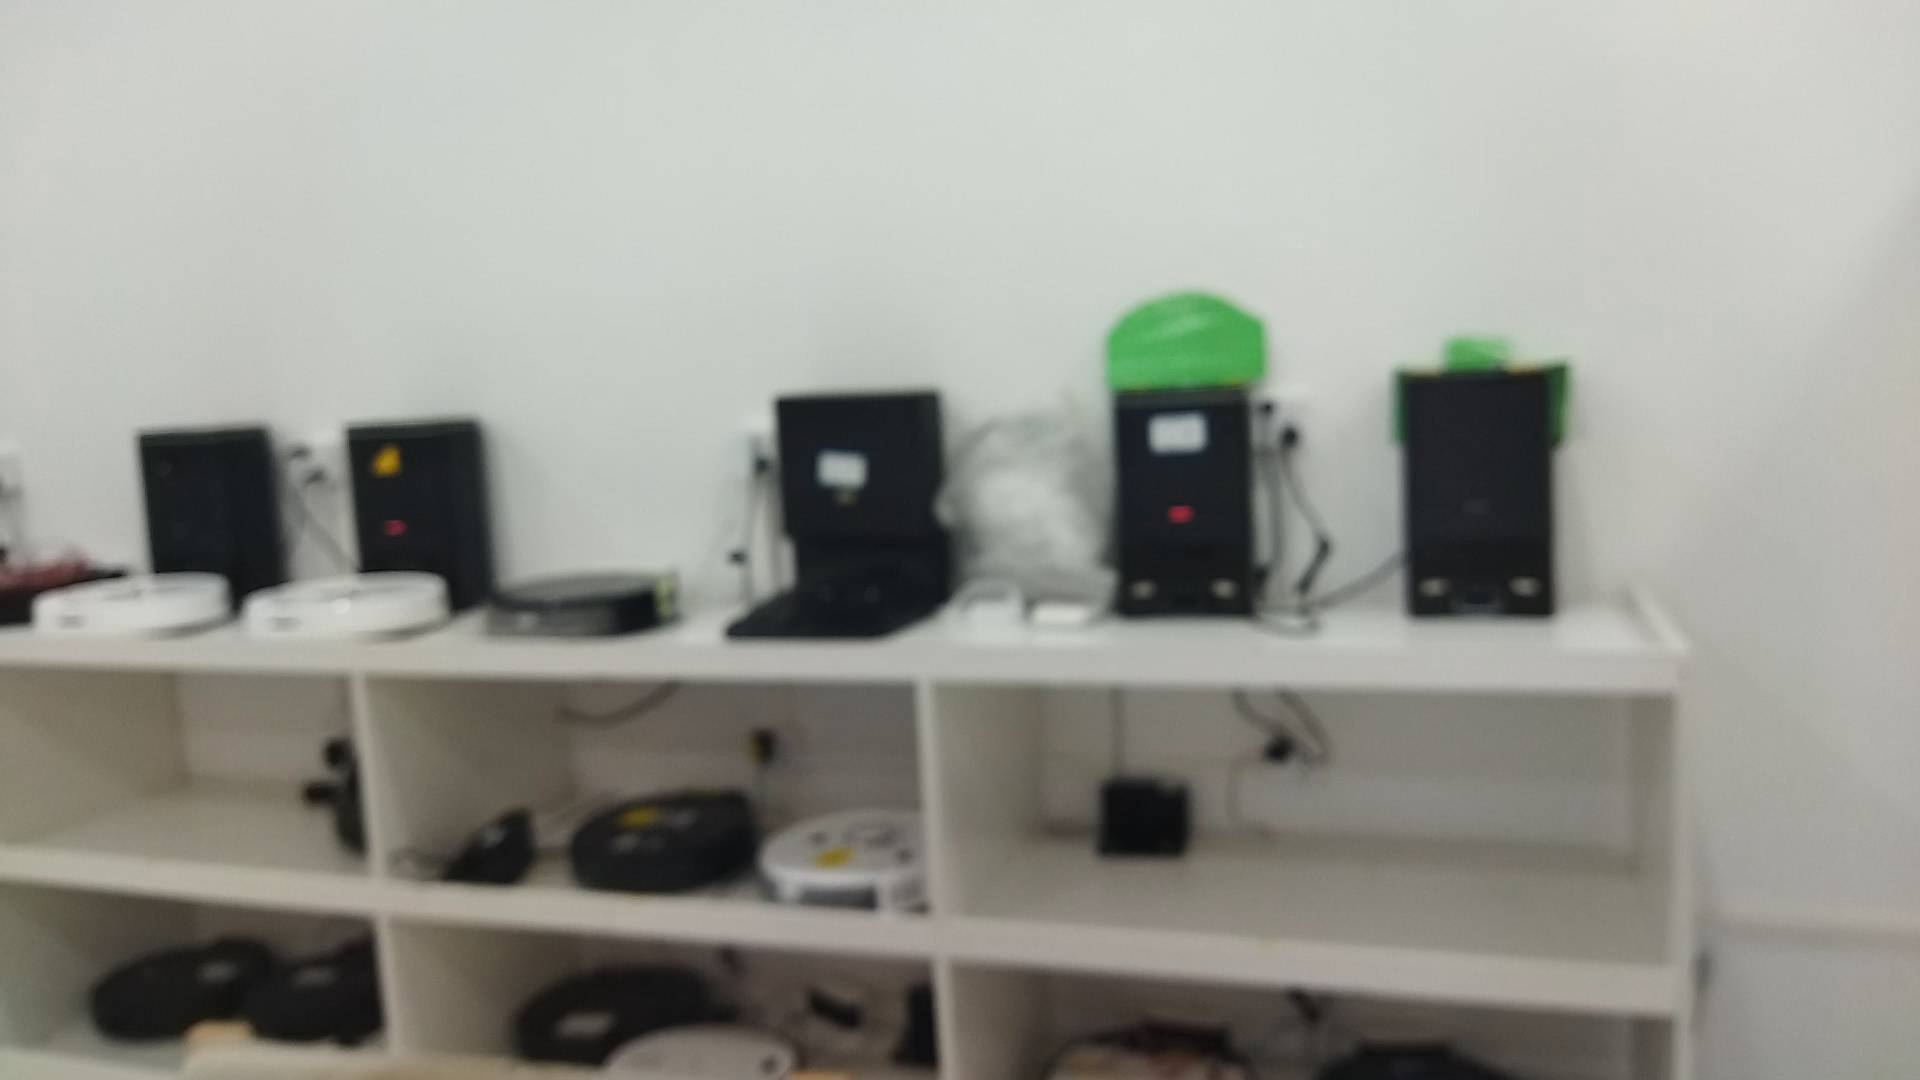dust collecting barrel: (719, 388, 963, 640), (1400, 372, 1563, 621), (1112, 389, 1261, 624), (344, 418, 491, 615), (137, 422, 280, 607)
recharge seat: (1093, 774, 1193, 857)
